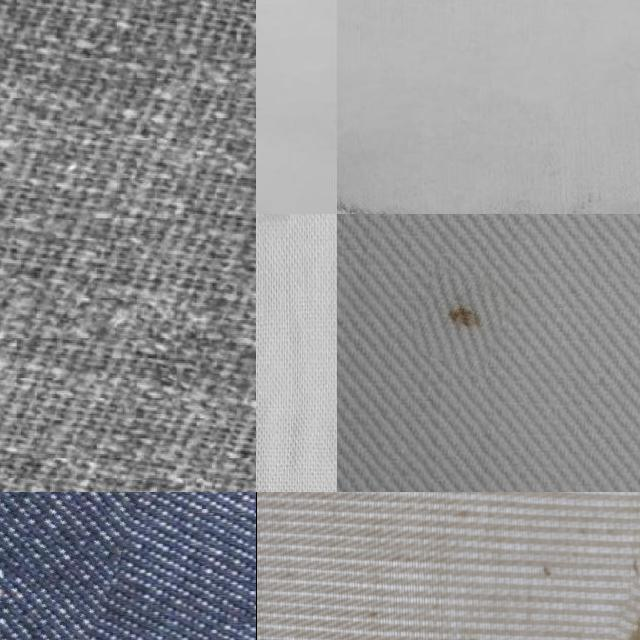Hole: (412, 270, 506, 370)
Thread_other: (0, 492, 114, 640), (597, 495, 640, 640)
